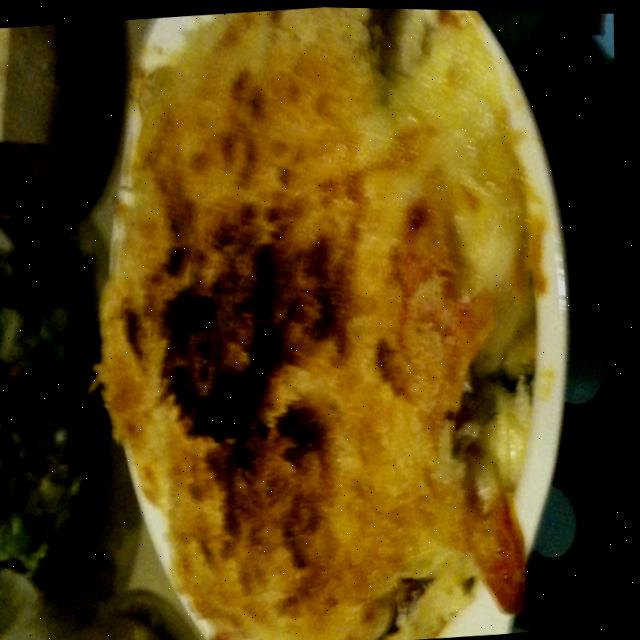米饭主食: (53, 2, 589, 640)
